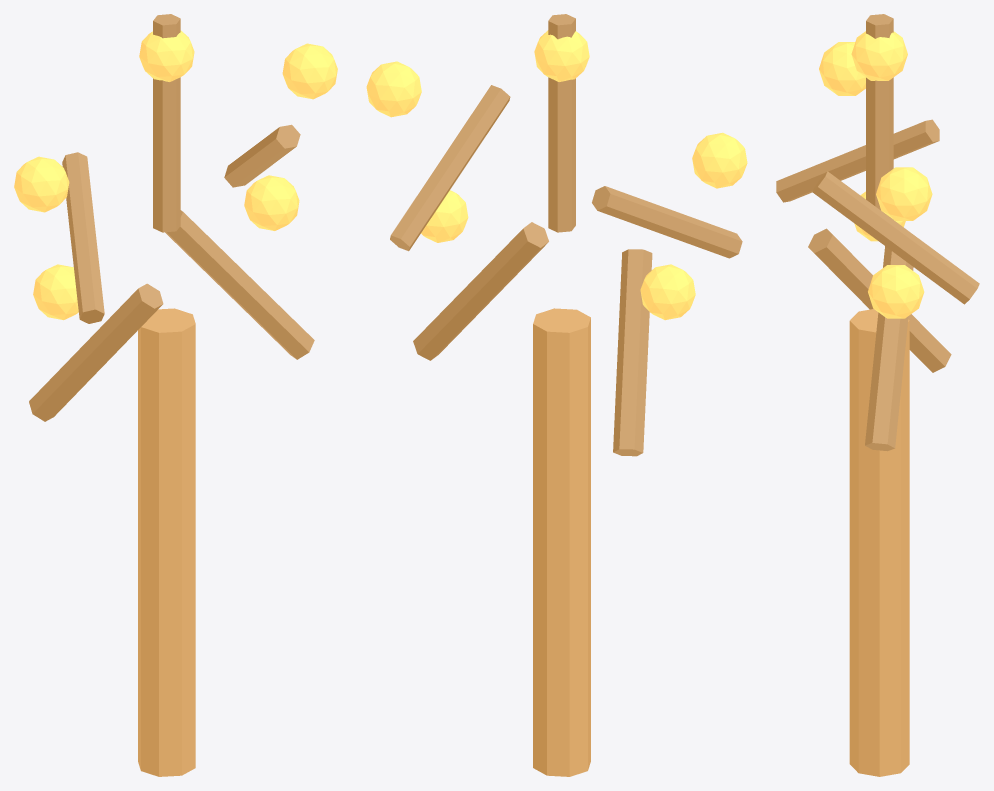
The model's file is 09_memory_world_neural.glb.
3 views of the same model, side by side, from view 1: azimuth 30°, elevation 25°; view 2: azimuth 150°, elevation 25°; view 3: azimuth 270°, elevation 25° (orthographic).
Visible parts, largest first — view 1: World_neural_NeuralTrunk, World_neural_Branch_2, World_neural_Branch_1, World_neural_Branch_5, World_neural_Branch_3, World_neural_Synapse_2, World_neural_Synapse_4, World_neural_Synapse_3, World_neural_Branch_4, World_neural_Synapse_5, World_neural_Synapse_1; view 2: World_neural_NeuralTrunk, World_neural_Branch_1, World_neural_Branch_2, World_neural_Branch_5, World_neural_Branch_4, World_neural_Branch_3, World_neural_Synapse_1, World_neural_Synapse_3, World_neural_Synapse_4, World_neural_Synapse_5, World_neural_Synapse_2; view 3: World_neural_NeuralTrunk, World_neural_Branch_4, World_neural_Branch_2, World_neural_Branch_5, World_neural_Branch_1, World_neural_Branch_3, World_neural_Synapse_4, World_neural_Synapse_2, World_neural_Synapse_5, World_neural_Synapse_3.
Boxes of the visible parts, <box> form: World_neural_NeuralTrunk: <box>138,308,195,776</box>; World_neural_Branch_2: <box>165,210,314,359</box>; World_neural_Branch_1: <box>29,283,163,421</box>; World_neural_Branch_5: <box>153,14,180,232</box>; World_neural_Branch_3: <box>62,152,104,323</box>; World_neural_Synapse_2: <box>244,175,299,230</box>; World_neural_Synapse_4: <box>282,43,337,99</box>; World_neural_Synapse_3: <box>14,156,69,212</box>; World_neural_Branch_4: <box>224,124,300,187</box>; World_neural_Synapse_5: <box>139,30,194,81</box>; World_neural_Synapse_1: <box>33,264,78,320</box>; World_neural_NeuralTrunk: <box>533,308,590,776</box>; World_neural_Branch_1: <box>613,249,652,456</box>; World_neural_Branch_2: <box>413,222,548,360</box>; World_neural_Branch_5: <box>548,14,575,232</box>; World_neural_Branch_4: <box>390,85,510,251</box>; World_neural_Branch_3: <box>592,186,742,258</box>; World_neural_Synapse_1: <box>640,264,695,320</box>; World_neural_Synapse_3: <box>692,132,747,188</box>; World_neural_Synapse_4: <box>366,61,421,117</box>; World_neural_Synapse_5: <box>534,30,589,81</box>; World_neural_Synapse_2: <box>421,190,468,242</box>; World_neural_NeuralTrunk: <box>849,309,909,776</box>; World_neural_Branch_4: <box>812,171,979,304</box>; World_neural_Branch_2: <box>865,246,913,451</box>; World_neural_Branch_5: <box>866,14,893,219</box>; World_neural_Branch_1: <box>808,228,951,372</box>; World_neural_Branch_3: <box>776,119,939,202</box>; World_neural_Synapse_4: <box>876,167,932,220</box>; World_neural_Synapse_2: <box>868,265,924,318</box>; World_neural_Synapse_5: <box>851,31,907,80</box>; World_neural_Synapse_3: <box>819,42,865,95</box>.
Size of the model in its own units: 0.7289 by 1.51 by 0.3742.
